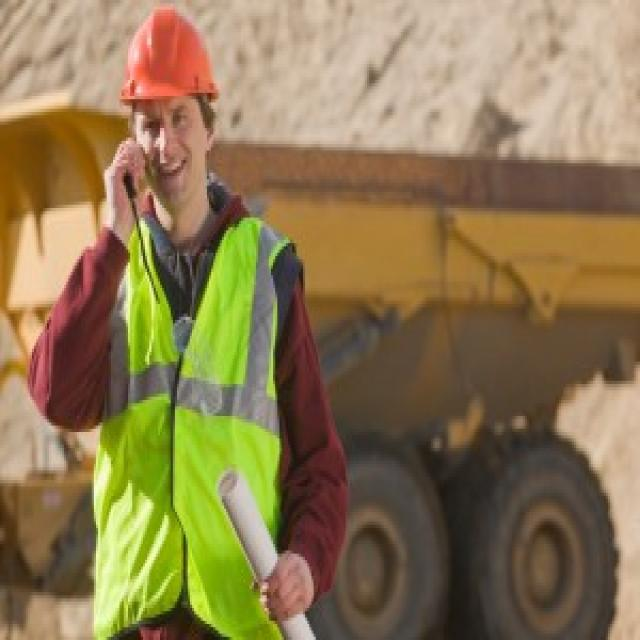helmet: (112, 6, 226, 110)
no-goggles: (125, 98, 217, 150)
vest: (95, 191, 298, 640)
